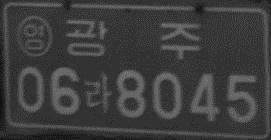0: (152, 70, 184, 121), (16, 65, 45, 113)
4: (189, 72, 220, 121)
5: (226, 73, 259, 124)
6: (49, 66, 80, 116)
8: (115, 69, 147, 119)
광주_D: (64, 18, 202, 60)
라: (84, 73, 113, 115)
영: (15, 14, 52, 57)
